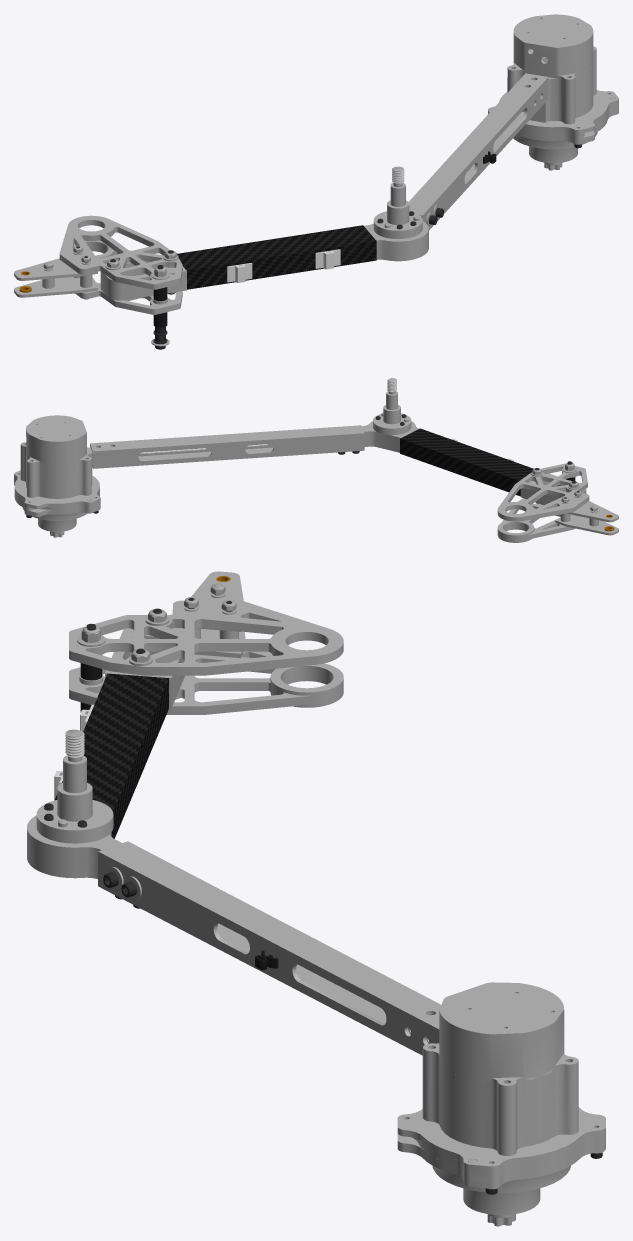
File: rover_right_rocker.glb
3 views of the same model, one above another, from view 1: azimuth 30°, elevation 25°; view 2: azimuth 150°, elevation 25°; view 3: azimuth 270°, elevation 25° (orthographic). The views are drawn at different scales.
Visible parts, largest first — view 1: 098152_A;1-MRV25.MOB.SUSP.MCHAS_SHAFT; view 2: 098152_A;1-MRV25.MOB.SUSP.MCHAS_SHAFT; view 3: 098152_A;1-MRV25.MOB.SUSP.MCHAS_SHAFT.
Part boxes in pixels (left/top/right/bottom): 098152_A;1-MRV25.MOB.SUSP.MCHAS_SHAFT: left=14, top=14, right=618, bottom=349; 098152_A;1-MRV25.MOB.SUSP.MCHAS_SHAFT: left=14, top=378, right=618, bottom=542; 098152_A;1-MRV25.MOB.SUSP.MCHAS_SHAFT: left=27, top=571, right=605, bottom=1226.
Bounding box in the file's own units: 81.61 × 19.29 × 38.21.
Materials: 7 (1 with a texture image).
